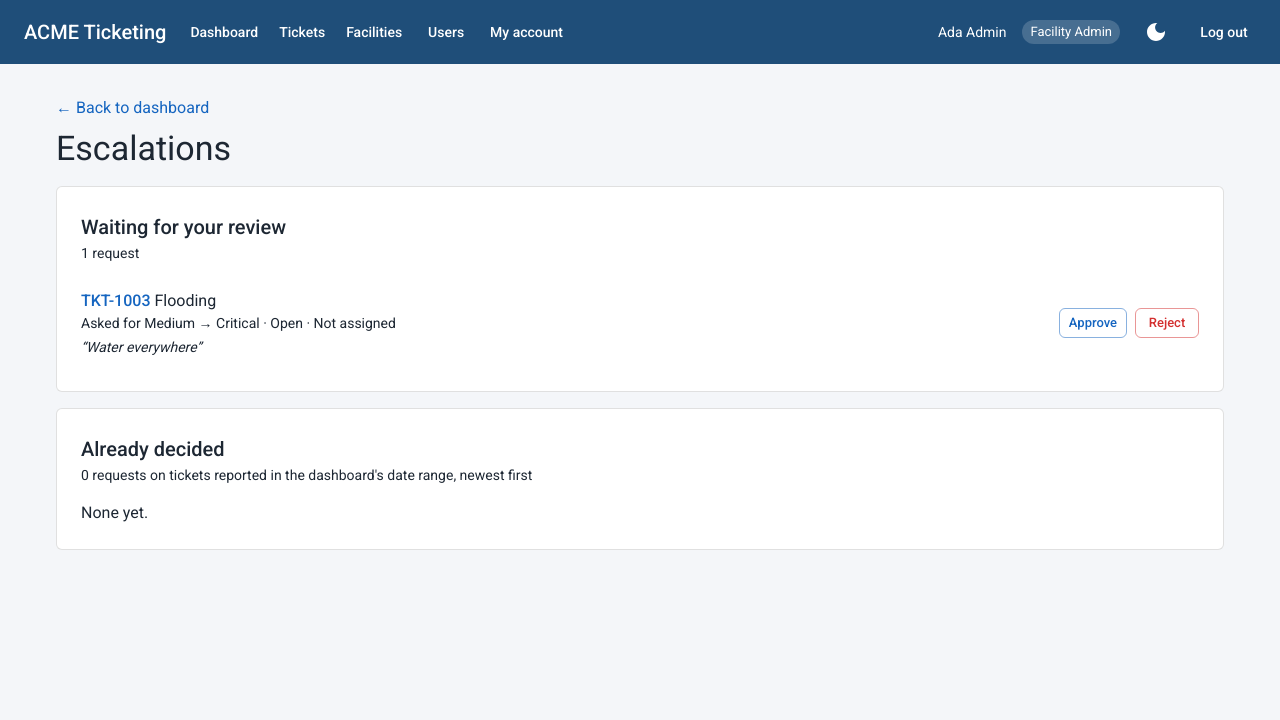
AdminReportPage › escalations can be approved from the list
Expected: the text "“Water everywhere”" is shown, 81,339 -> 202,355
Click the button "Approve".
click(1093, 323)  # box 1059,308 -> 1127,338
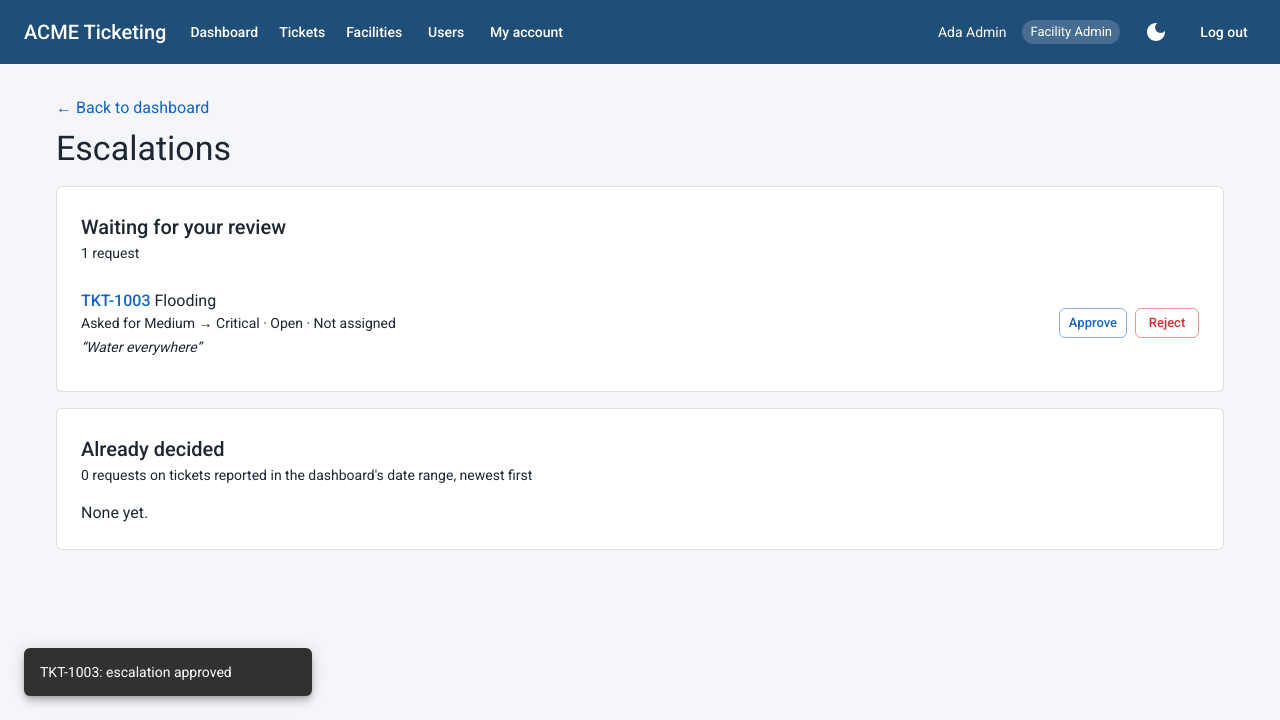
Now the text "TKT-1003: escalation approved" is shown, box 40,664 -> 232,680
